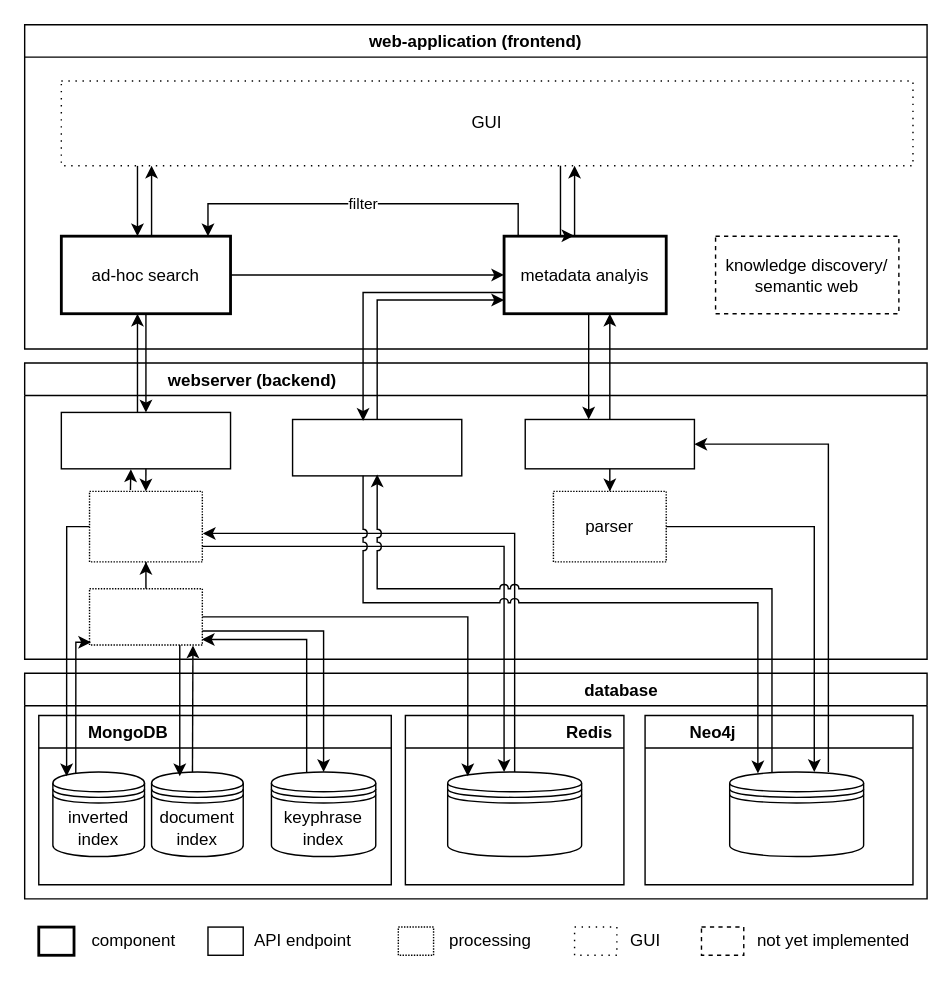
Image size: 952x981. Some labels were removed from this diagram. The shapes that lost their labels are listed below. From the top down, each one's centre as x and y in pixels, then its label:
the point at 145,440: /search
the point at 376,447: /geo
the point at 609,443: /statistics
the point at 145,526: cache check
the point at 145,616: document ranking
the point at 514,814: query cache
the point at 796,814: metadata property graph
